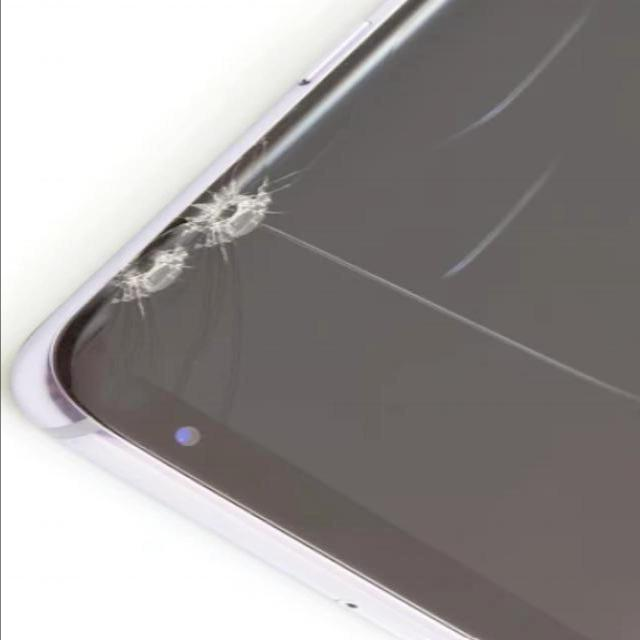Crack: (97, 183, 365, 442)
